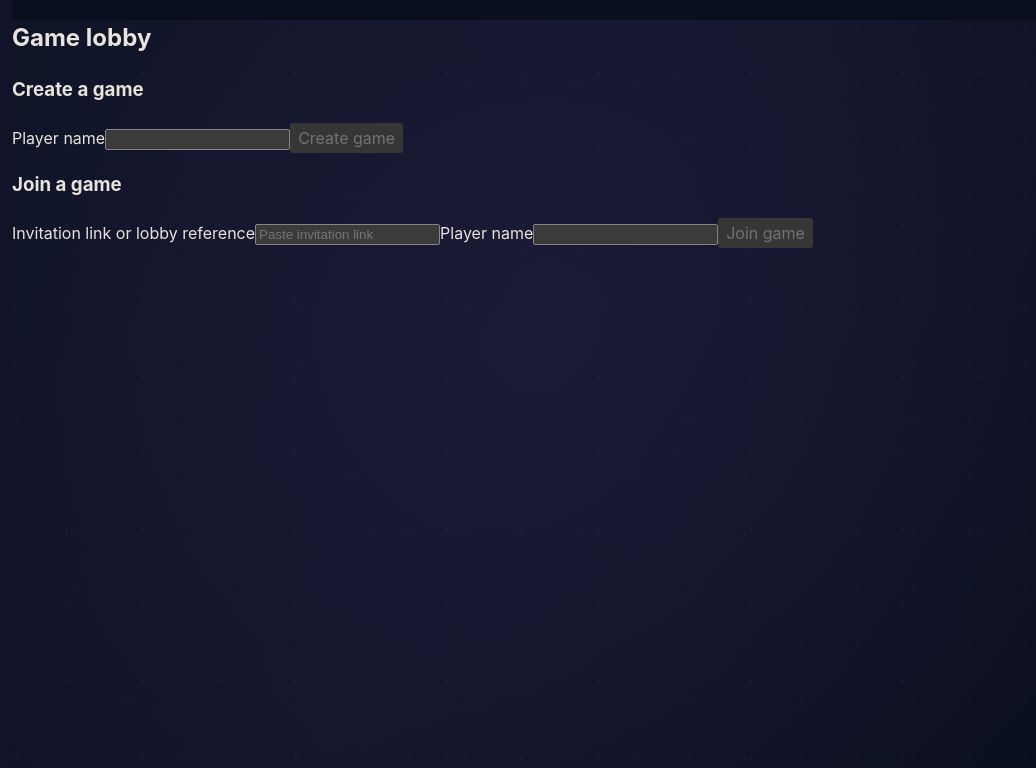
Scenario: LobbyPanel › starts every name input empty and gates create and join without a display name
Expected: the field named "Player name for creating" is empty, left=105, top=129, right=290, bottom=150
Expected: the field named "Player name for joining" is empty, left=533, top=224, right=718, bottom=245
Type "lobby-9" into the field labelled "Invitation link or lobby reference" at [348, 235], box left=255, top=224, right=440, bottom=245
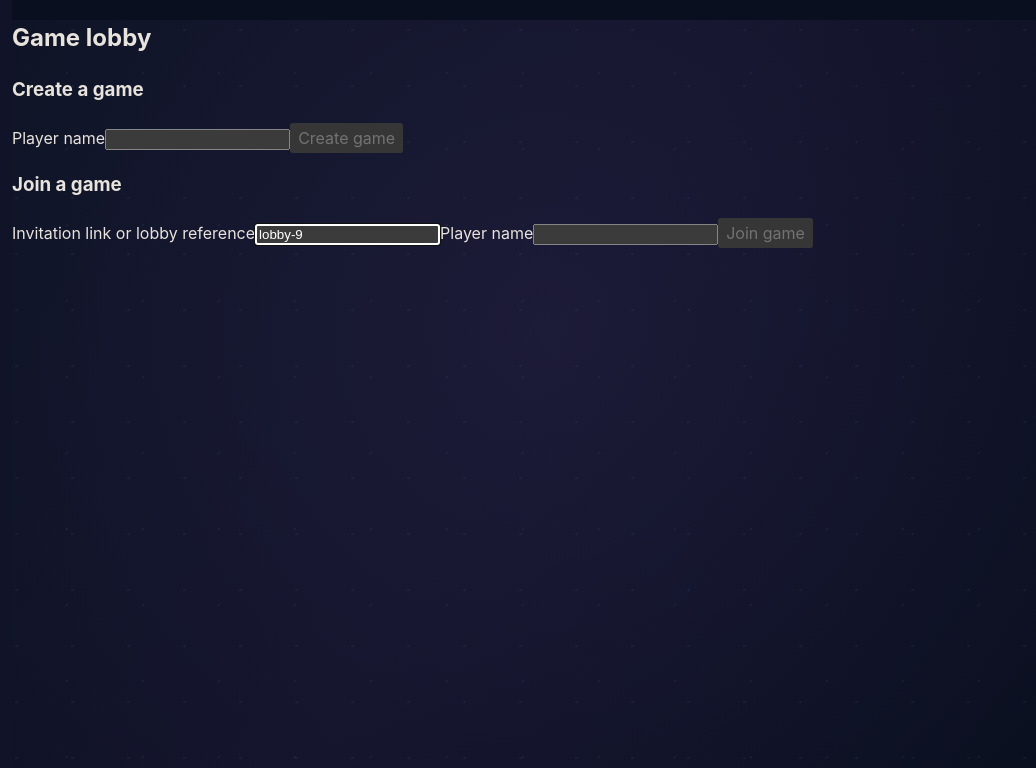
Expected: the button "Join game" is disabled, left=718, top=218, right=813, bottom=248
Type "juanito" into the field named "Player name for creating" at [198, 139], box left=105, top=129, right=290, bottom=150
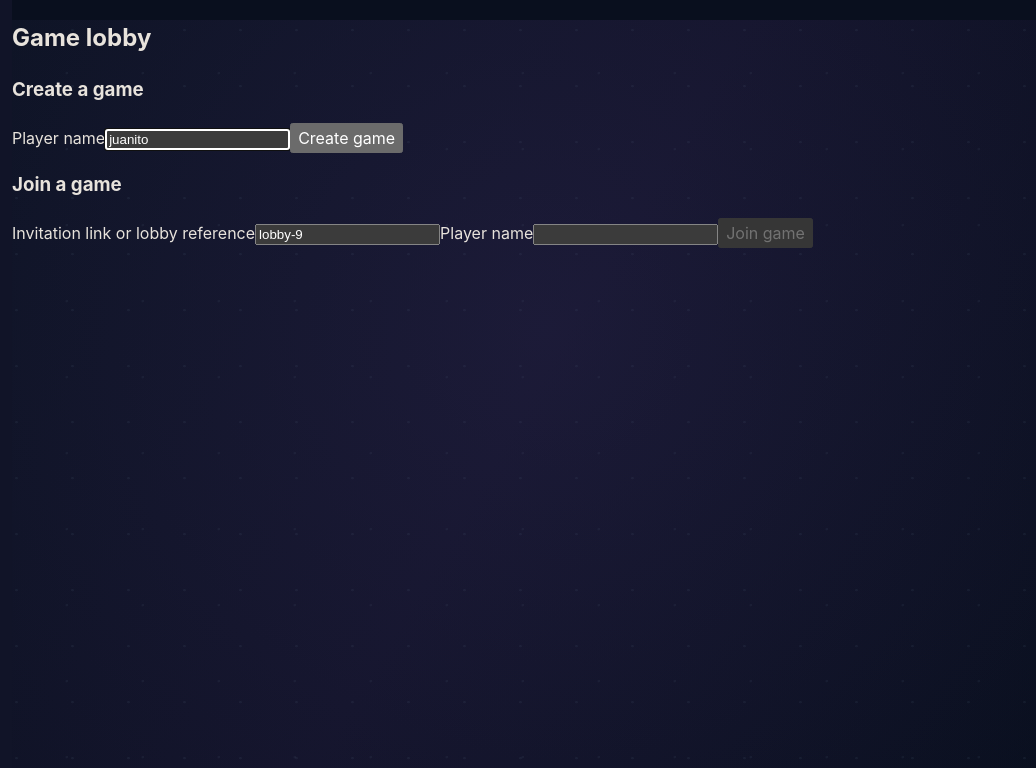
Expected: the button "Create game" is enabled, left=290, top=123, right=403, bottom=153
